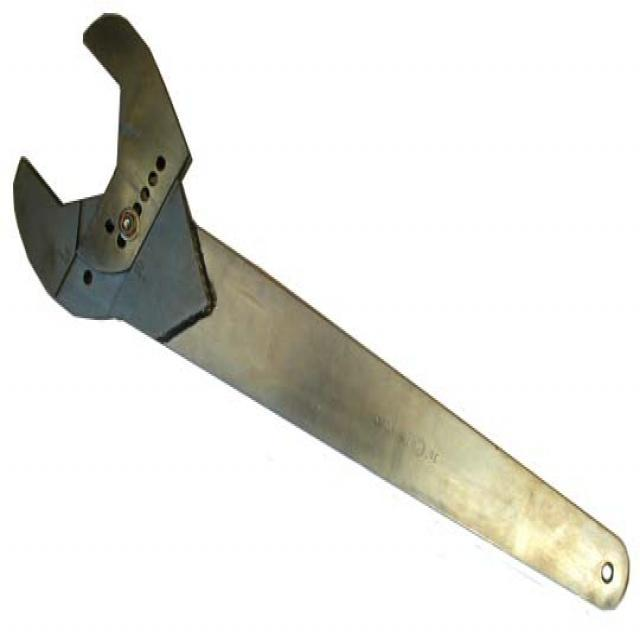wrench: (5, 12, 632, 608)
